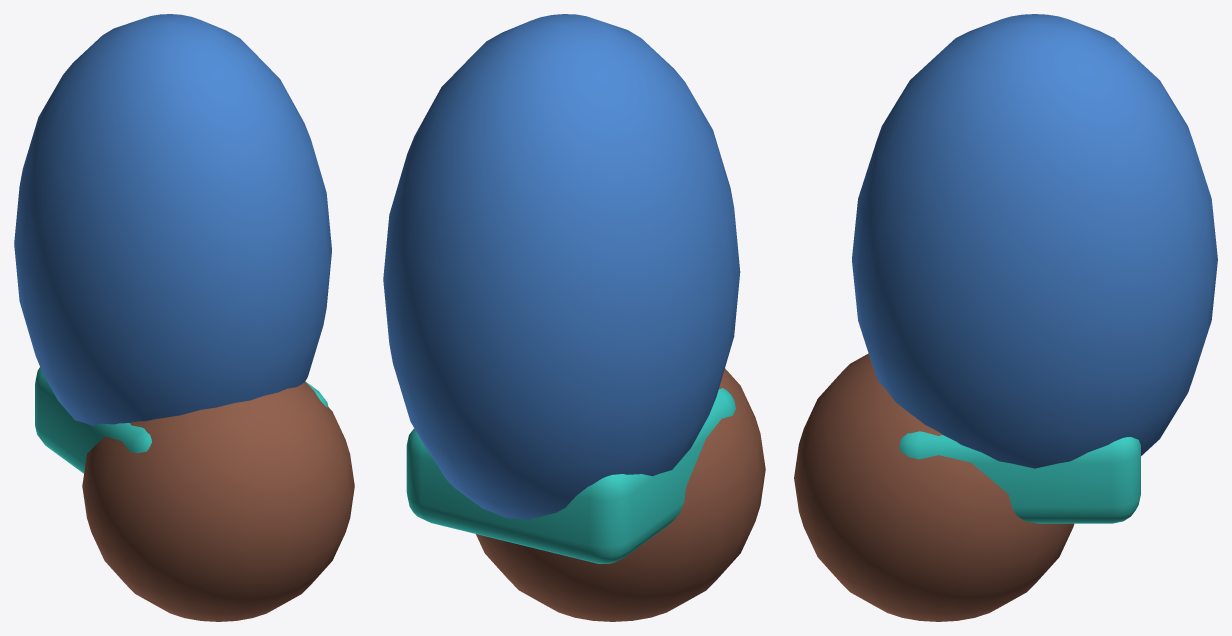
The model's file is hero_arm_l.glb.
3 views of the same model, side by side, from view 1: azimuth 30°, elevation 25°; view 2: azimuth 150°, elevation 25°; view 3: azimuth 270°, elevation 25° (orthographic). The views are drawn at different scales.
Visible parts, largest first — view 1: hero arm_l; view 2: hero arm_l; view 3: hero arm_l.
Boxes of the visible parts, x1,y1,x2,y2 form: hero arm_l: (14, 14, 354, 621); hero arm_l: (383, 14, 765, 621); hero arm_l: (794, 14, 1217, 621).
Bounding box in the file's own units: 0.34 × 0.67 × 0.44.
